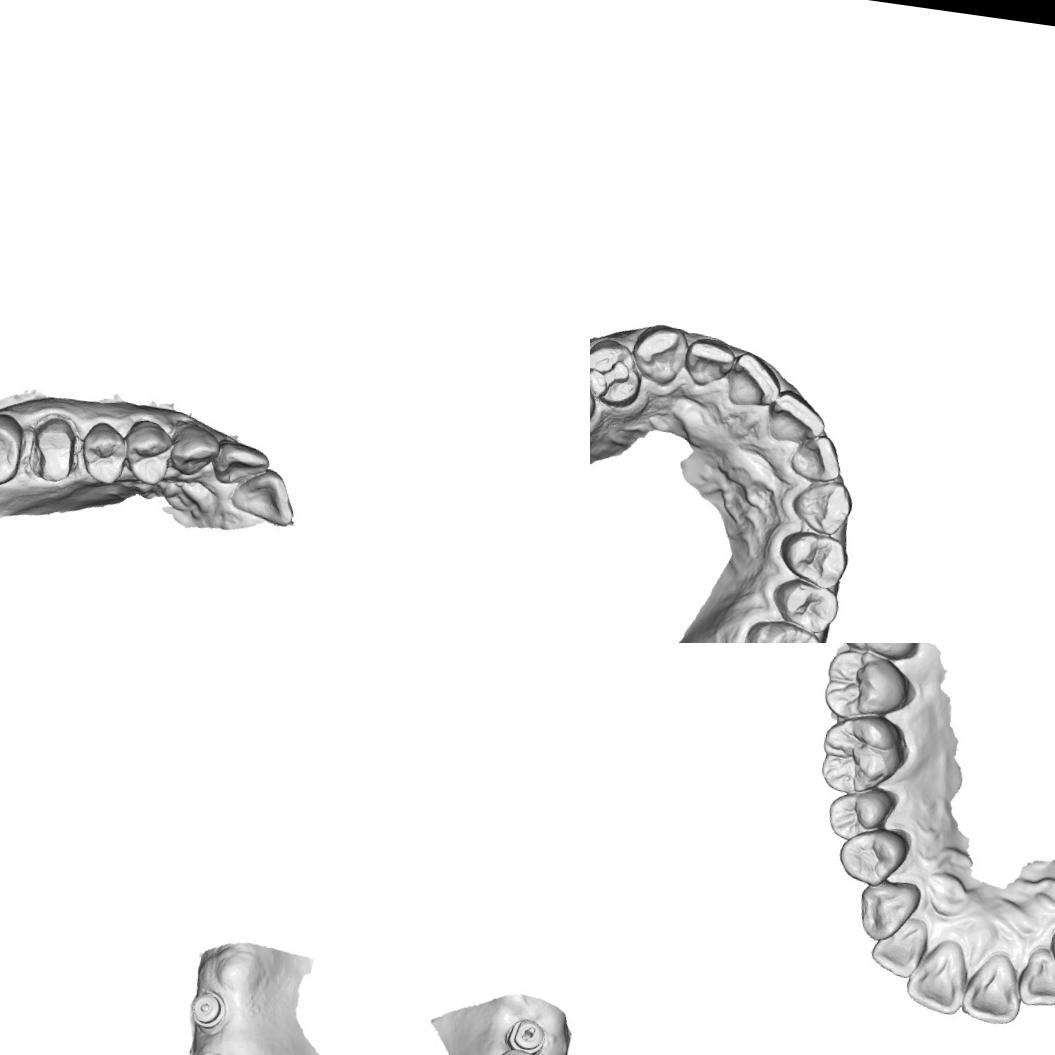canine: (855, 876, 924, 945), (785, 475, 858, 540), (626, 321, 691, 386), (168, 420, 224, 480)
crown: (26, 410, 83, 486)
implant: (186, 987, 231, 1031)
implant_minus: (507, 1014, 546, 1052)
incisor: (902, 934, 973, 1018), (958, 948, 1027, 1028), (866, 910, 932, 981), (227, 465, 300, 528), (720, 348, 786, 412), (764, 388, 828, 448), (680, 332, 739, 392), (786, 430, 846, 488), (211, 438, 272, 492), (1016, 943, 1055, 1011)
inlay: (590, 349, 633, 404)
molar: (816, 708, 912, 802), (820, 645, 918, 728), (734, 613, 827, 643), (0, 407, 27, 490)
premolar: (834, 823, 911, 892), (773, 528, 855, 591), (824, 781, 900, 846), (768, 574, 844, 638), (119, 415, 176, 488), (78, 418, 130, 487)
